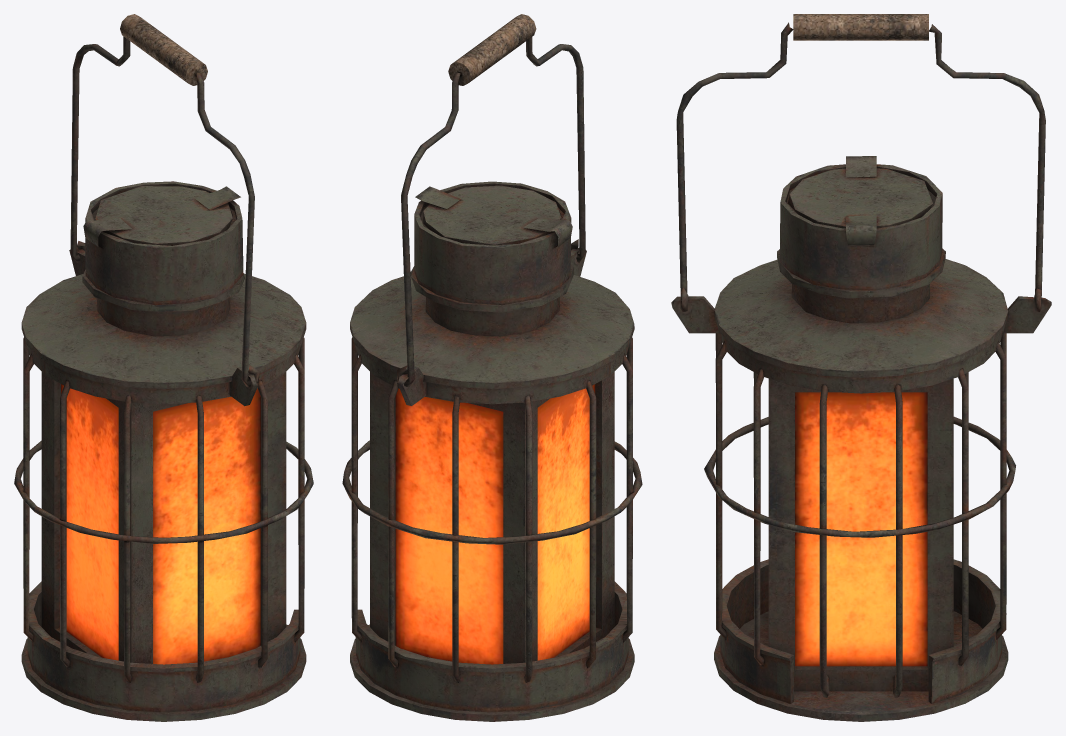
Rendered from SM_Latern_01.glb.
3 renders of one model, left to right at view 1: azimuth 30°, elevation 25°; view 2: azimuth 150°, elevation 25°; view 3: azimuth 270°, elevation 25°, orthographic. The views are drawn at different scales.
Parts seen in each view (by area): view 1: SM_Latern_01; view 2: SM_Latern_01; view 3: SM_Latern_01.
Part boxes in pixels (bbox=[...]): SM_Latern_01: bbox=[14, 14, 313, 721]; SM_Latern_01: bbox=[342, 14, 642, 721]; SM_Latern_01: bbox=[671, 14, 1051, 721].
Bounding box in the file's own units: 0.1495 × 0.3429 × 0.1836.
Materials: 1 (1 with a texture image).
